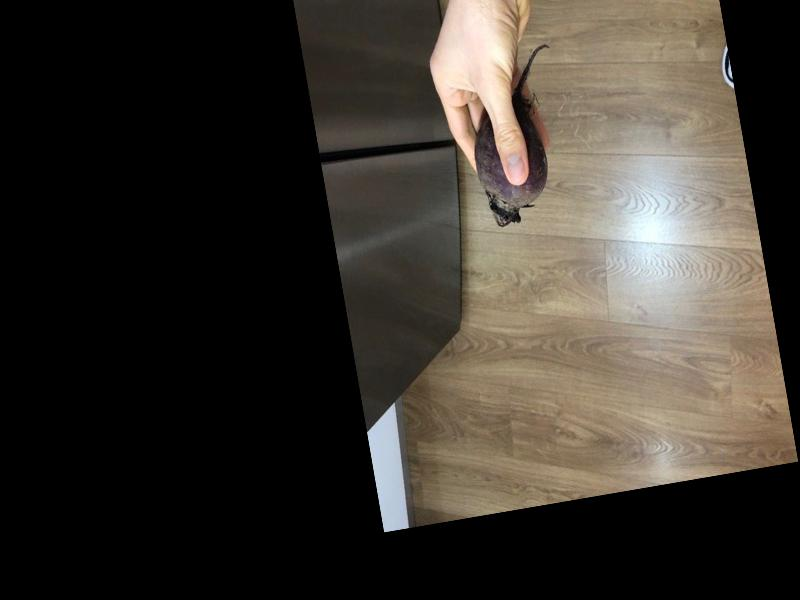Beet: (457, 45, 578, 231)
